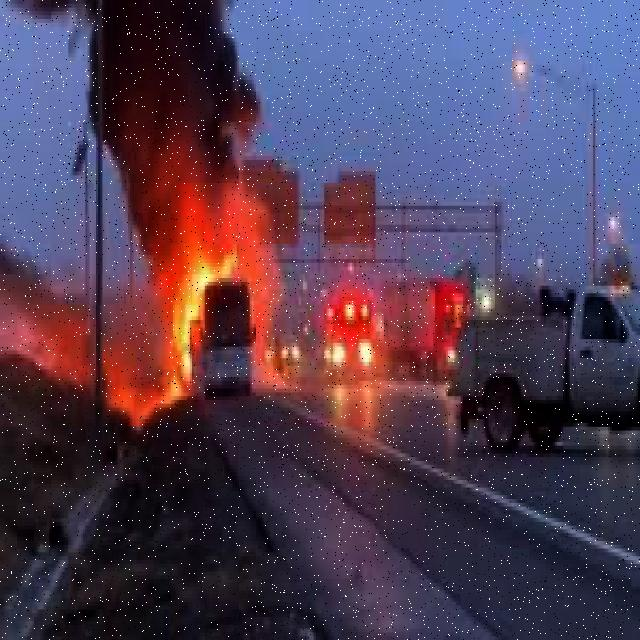fire: (170, 217, 222, 399)
smoke: (95, 2, 255, 202)
